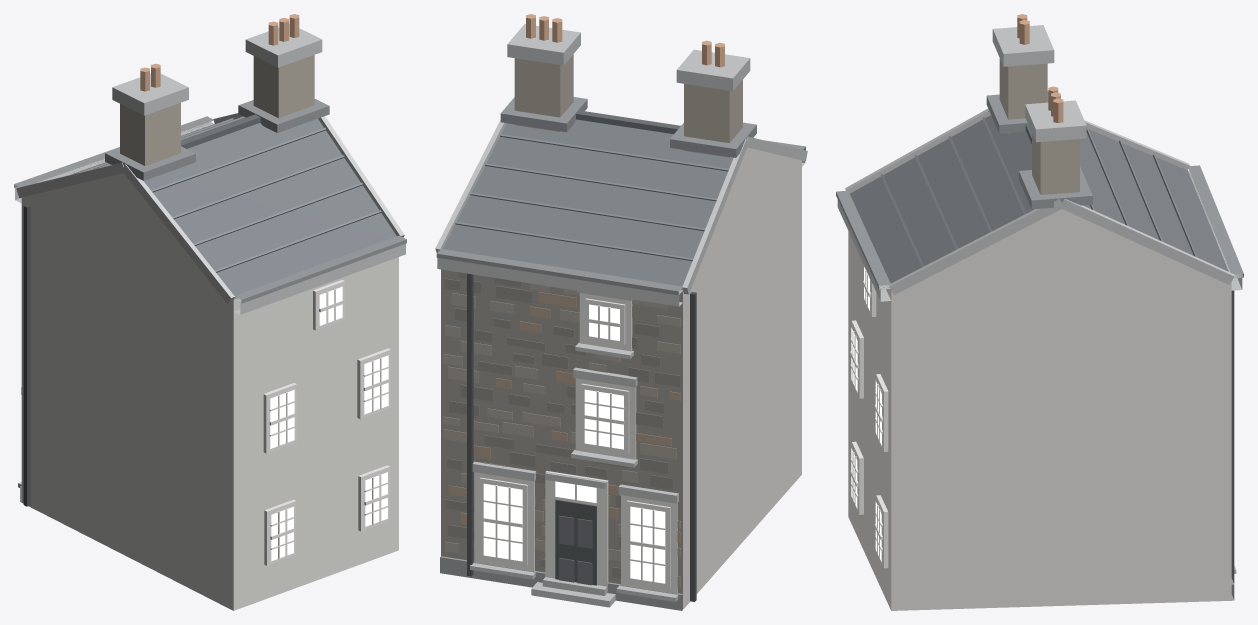
The picture shows the model from 3 angles, left to right: view 1: azimuth 30°, elevation 25°; view 2: azimuth 150°, elevation 25°; view 3: azimuth 270°, elevation 25°; orthographic projection. The views are drawn at different scales.
Visible parts, largest first — view 1: harl001, slate001, stone_band001, chim_stone001, frame001, lead001, slate_lt001, pipe001, pot001, window_glass_009, window_glass_010, window_glass_008 (+3 smaller); view 2: harl001, slate001, rubble001, stone_band001, frame001, rubble_dk001, rubble_lt001, chim_stone001, lead001, pipe001, slate_lt001, rubble_rust001 (+10 smaller); view 3: harl001, slate001, stone_band001, lead001, chim_stone001, frame001, slate_lt001, pipe001, pot001.
Part boxes in pixels (box(x1,y1,x2,y2)): harl001: box(21, 173, 398, 610); slate001: box(71, 118, 396, 299); stone_band001: box(15, 24, 405, 487); chim_stone001: box(120, 55, 314, 165); frame001: box(263, 280, 390, 565); lead001: box(14, 99, 406, 303); slate_lt001: box(75, 116, 381, 272); pipe001: box(23, 204, 30, 506); pot001: box(140, 14, 299, 91); window_glass_009: box(270, 389, 294, 448); window_glass_010: box(364, 355, 388, 414); window_glass_008: box(365, 472, 387, 526); harl001: box(683, 147, 801, 609); slate001: box(443, 119, 733, 290); rubble001: box(441, 269, 682, 609); stone_band001: box(435, 24, 807, 607); frame001: box(474, 293, 677, 593); rubble_dk001: box(444, 272, 680, 578); rubble_lt001: box(443, 283, 680, 587); chim_stone001: box(514, 54, 742, 157); lead001: box(436, 97, 805, 295); pipe001: box(467, 273, 696, 601); slate_lt001: box(455, 134, 728, 260); rubble_rust001: box(448, 292, 680, 554); harl001: box(848, 209, 1231, 610); slate001: box(850, 115, 1228, 283); stone_band001: box(837, 25, 1242, 573); lead001: box(836, 91, 1243, 289); chim_stone001: box(999, 58, 1079, 194); frame001: box(850, 267, 888, 568); slate_lt001: box(880, 117, 1197, 267); pipe001: box(1231, 290, 1234, 583); pot001: box(1017, 14, 1063, 123).
Bounding box in the file's own units: 6.56 × 12.37 × 9.18.
